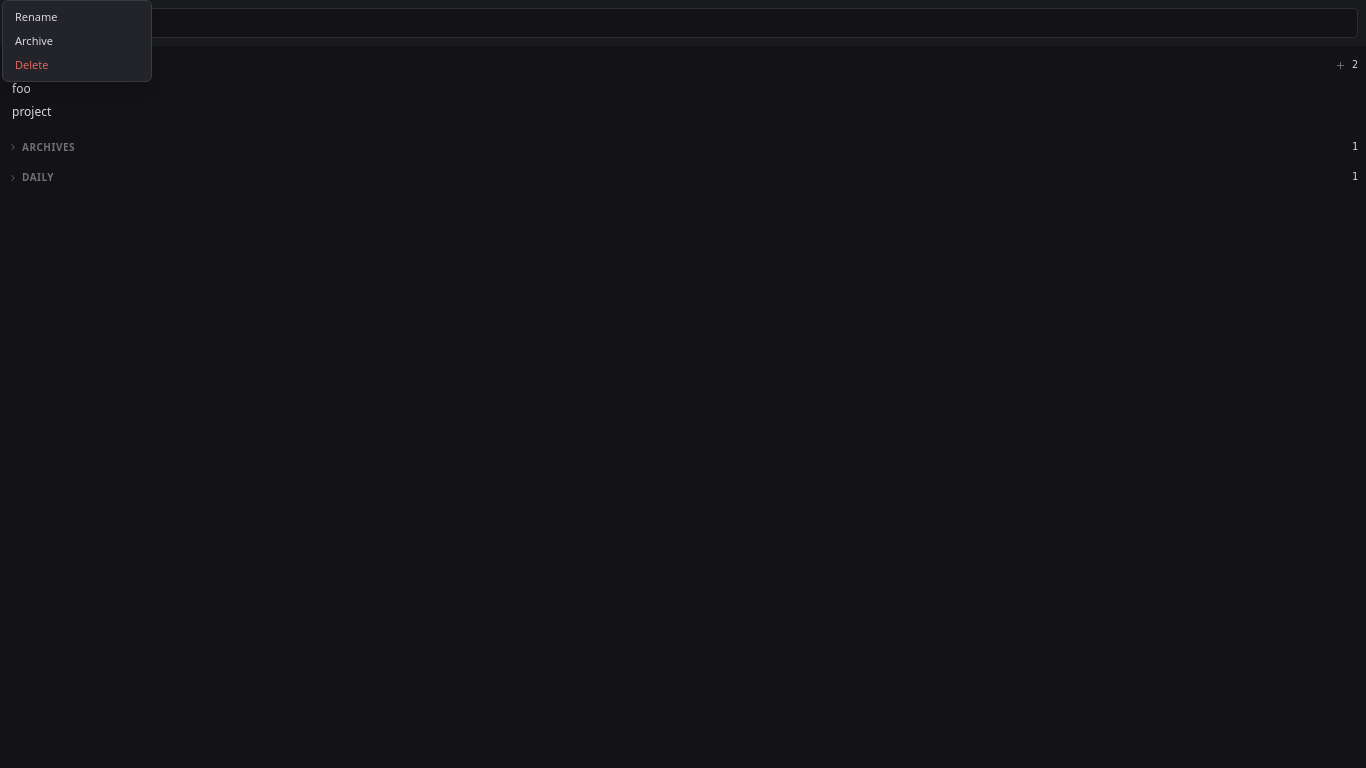
LeftSidebar context menus › activating a menu item opens its dialog instead of the document
Click the menu item "Delete" at (32, 64), box x1=15 y1=57 x2=48 y2=72
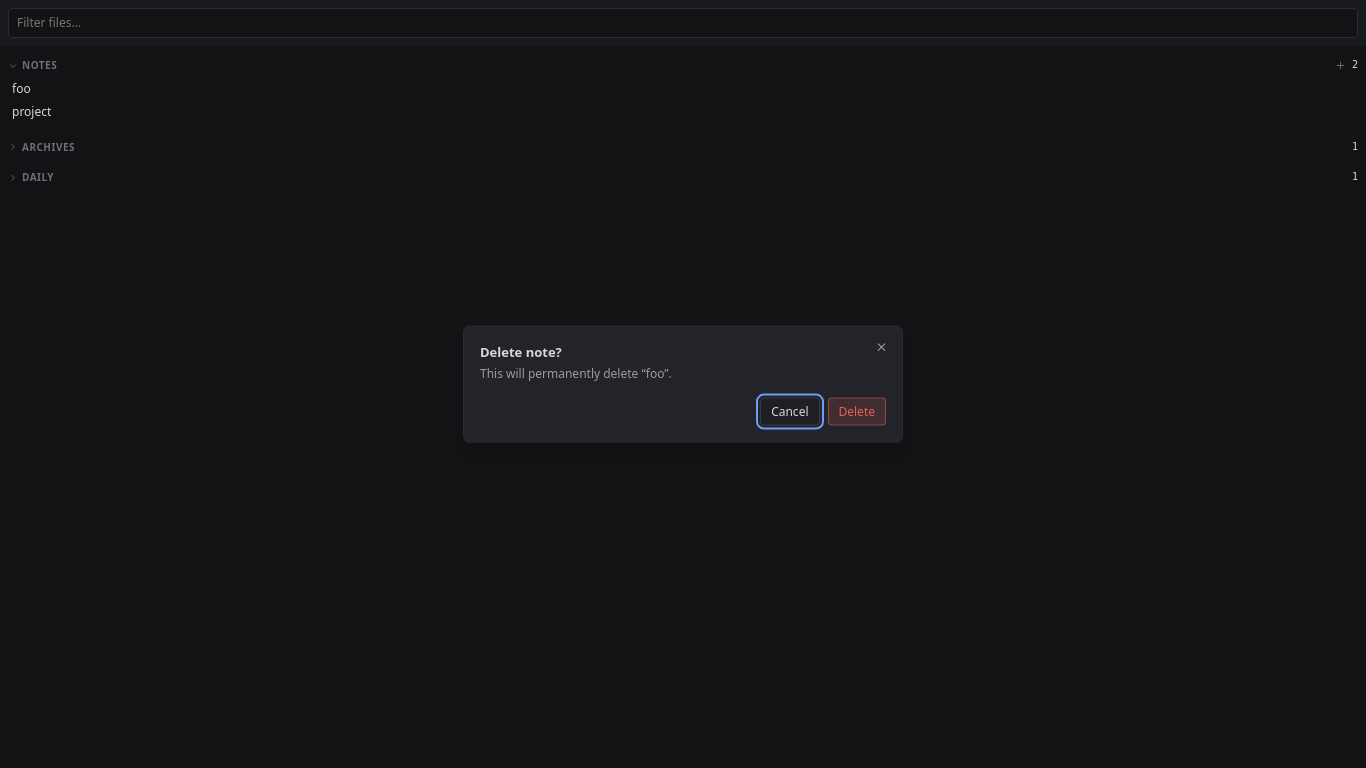
Expected: the heading "Delete note?" is shown, x1=480 y1=343 x2=562 y2=361
